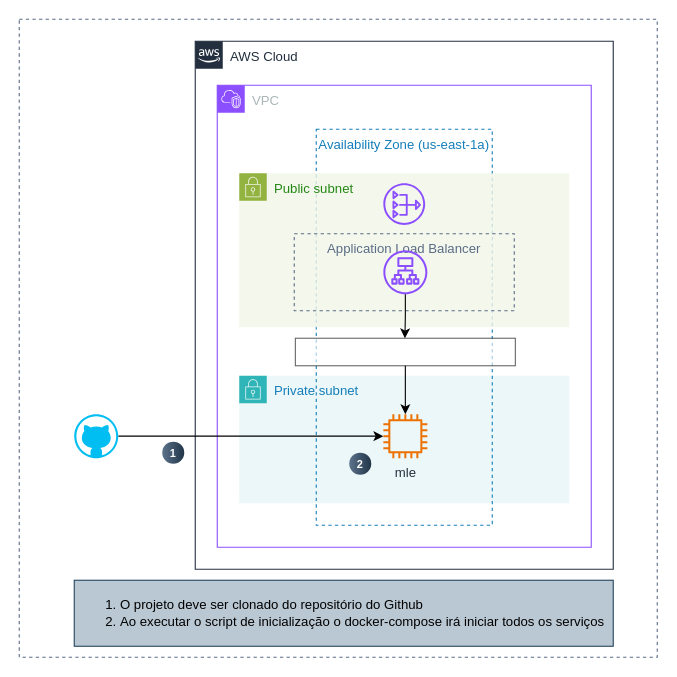
This 677x677 diagram has some shape labels left out. Each missing label, with the centre of its shape:
"GitHub Repository" belongs at (x=96, y=436).
"Target Group: mlet-tgt" belongs at (x=404, y=351).
